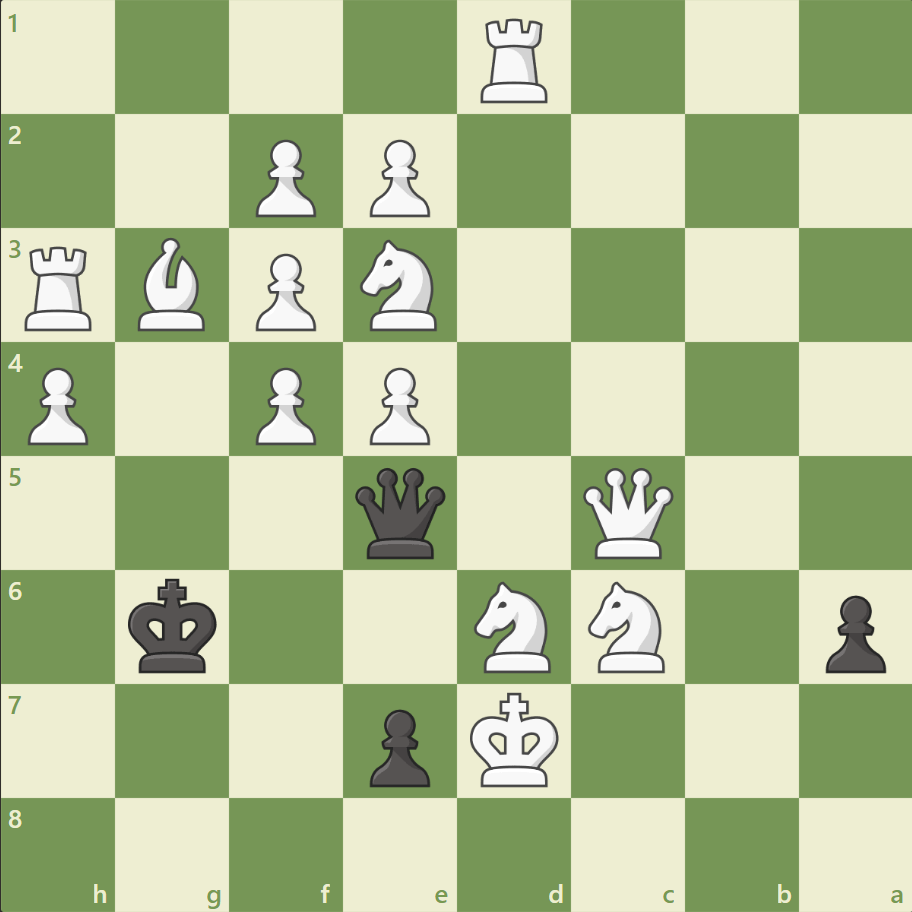B: (131, 233, 215, 336)
K: (465, 685, 565, 793)
N: (351, 234, 449, 337), (579, 575, 676, 677), (465, 575, 562, 677)
P: (247, 359, 322, 450), (20, 359, 95, 450), (247, 246, 322, 337), (247, 132, 322, 223), (361, 359, 435, 450), (361, 132, 435, 223)
Q: (578, 463, 677, 562)
R: (19, 239, 102, 336), (473, 12, 556, 109)
k: (124, 571, 224, 679)
p: (361, 700, 435, 791), (815, 586, 889, 677)
q: (351, 463, 450, 562)
